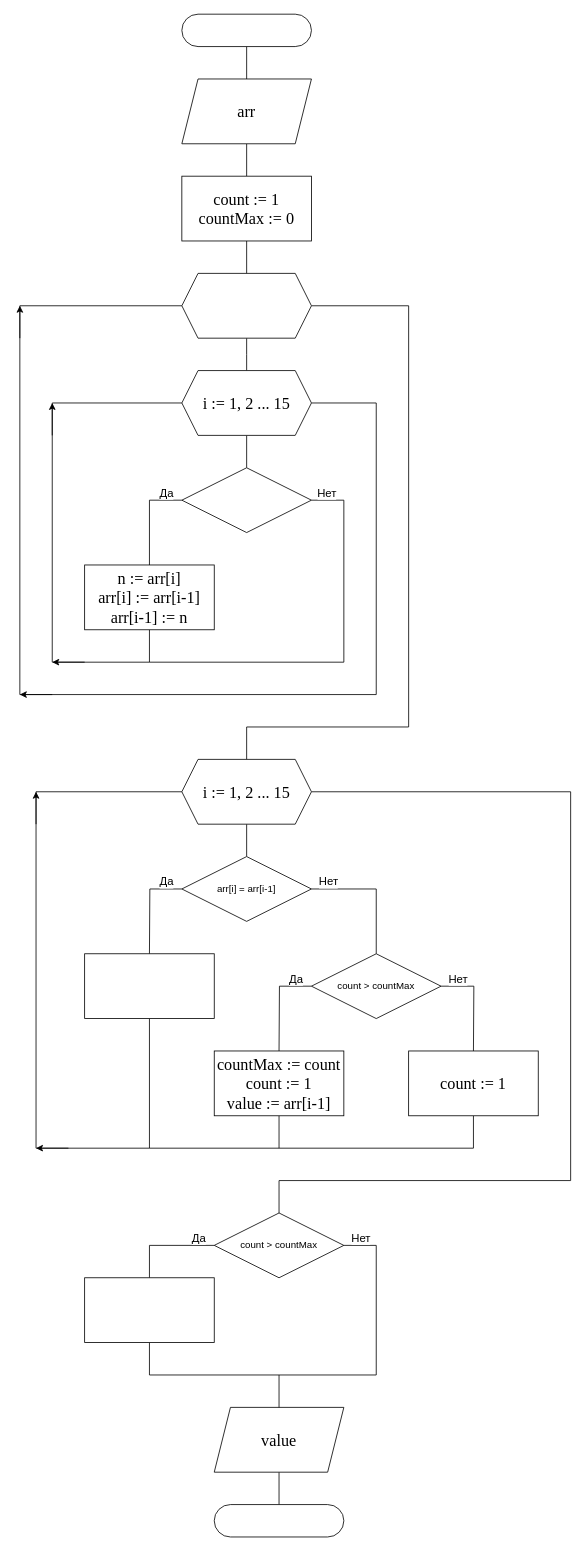
Image size: 586x1551. Some labels were removed from this diagram. Each missing label, with the box of its shape:
arr[i-1] > arr[i]: (181, 467, 311, 533)
count := count + 1: (84, 953, 214, 1019)
value := arr[15]: (84, 1277, 214, 1343)
x := 0, 1 ... 14: (181, 273, 311, 338)
Конец: (213, 1504, 344, 1537)
Начало: (181, 13, 311, 47)
